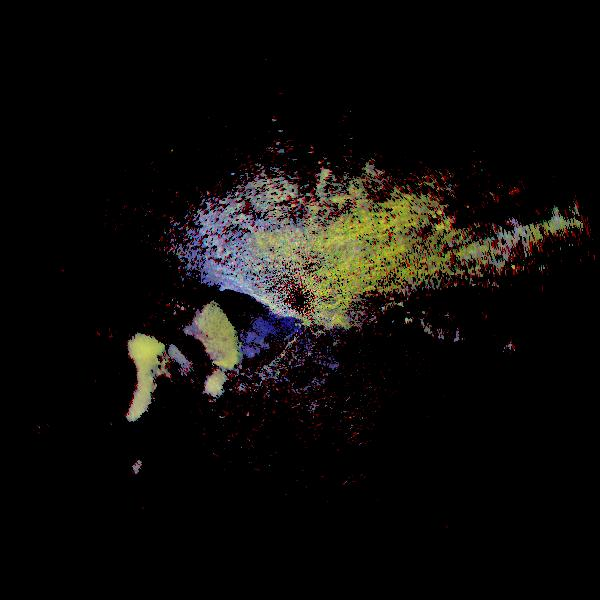roost: (105, 280, 249, 424), (43, 313, 172, 442)
